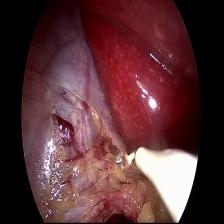Hook: (112, 140, 198, 212)
